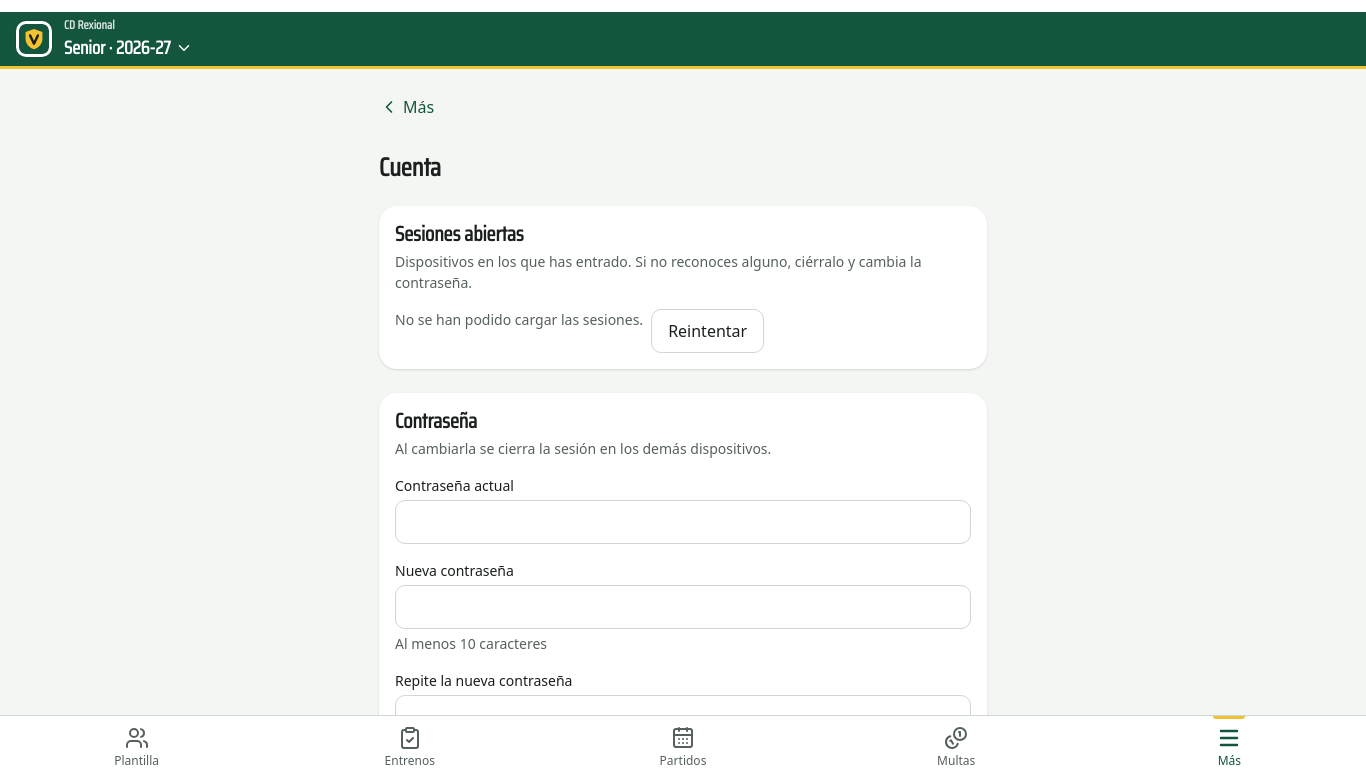
Scenario: sesiones abiertas › si no se pueden cargar, permite reintentar
expect the text "No se han podido cargar las sesiones." is shown: met, box [395, 310, 643, 329]
What coordinates should you click on to do the following:
click the button "Reintentar"
I would click on:
 (708, 331)
Its box is [651, 309, 764, 353].
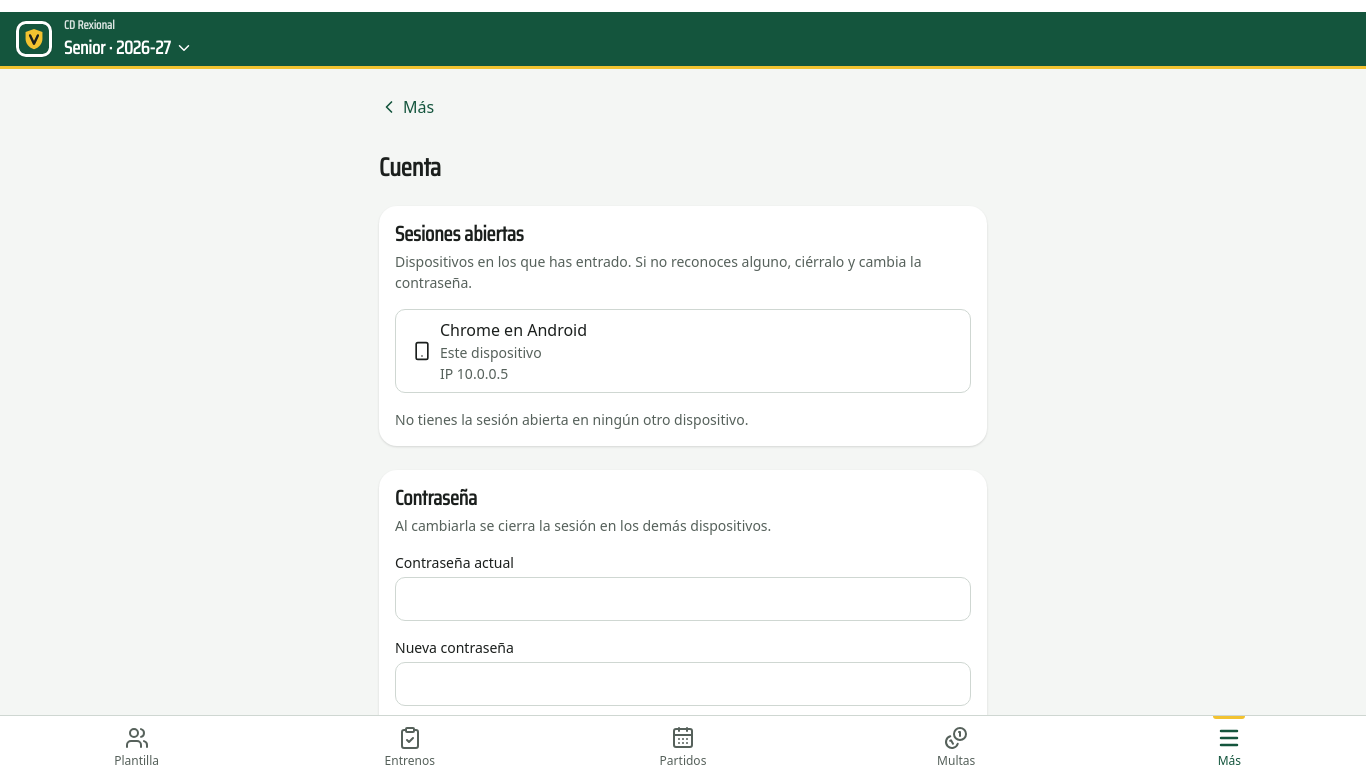
expect the text "Chrome en Android" is shown: met, box [440, 319, 587, 341]
